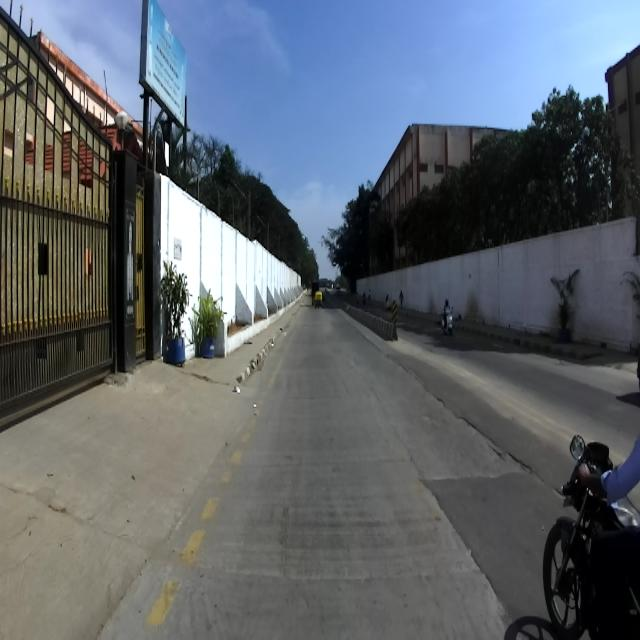gate ahead at: (0, 1, 152, 410)
plant ahead at: (158, 254, 198, 374), (188, 287, 226, 358)
